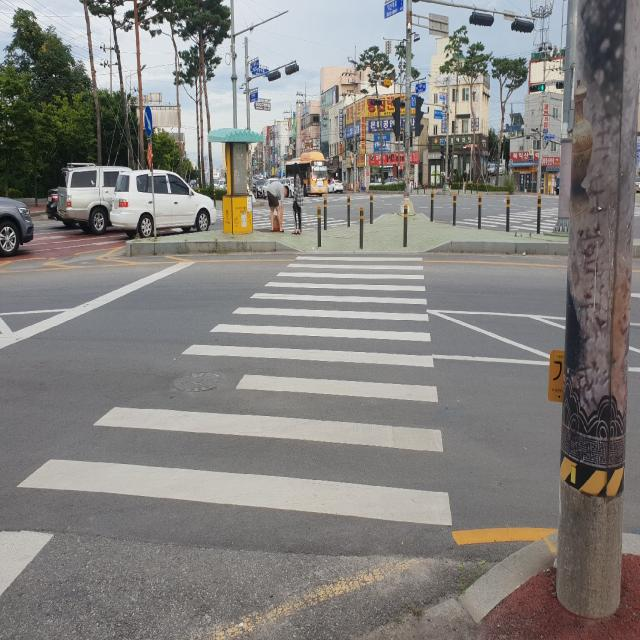횡단보도: (0, 248, 454, 602), (455, 188, 559, 234)
